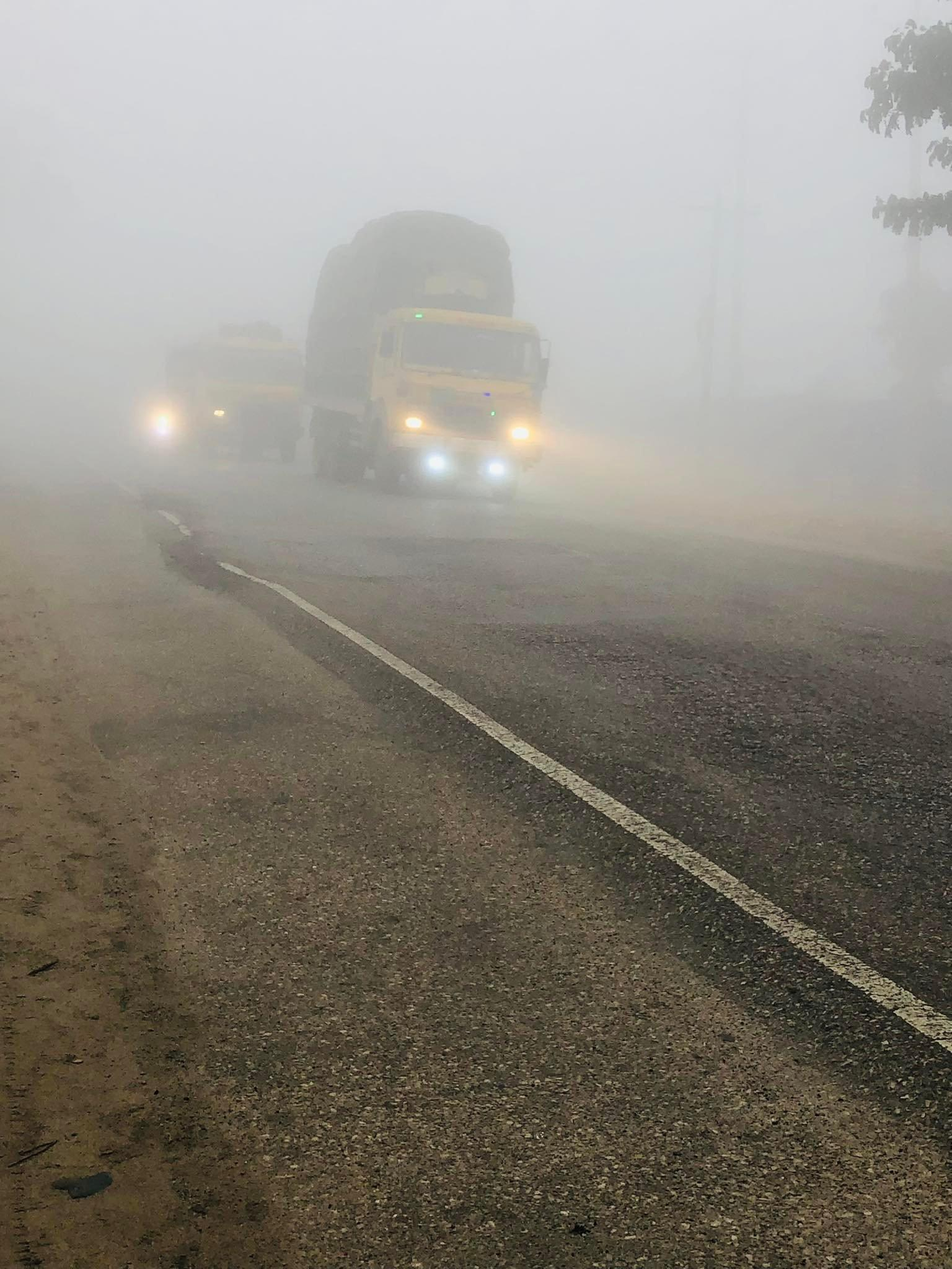Truck: (295, 196, 576, 503)
